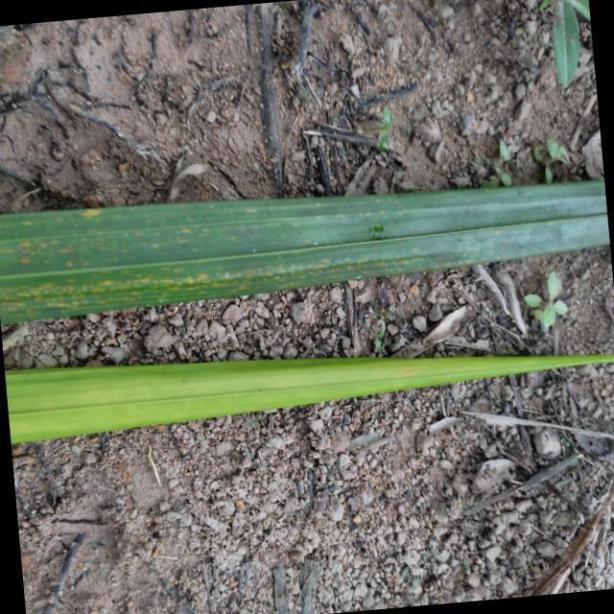nitrogen: (0, 177, 614, 328), (9, 350, 614, 447)
